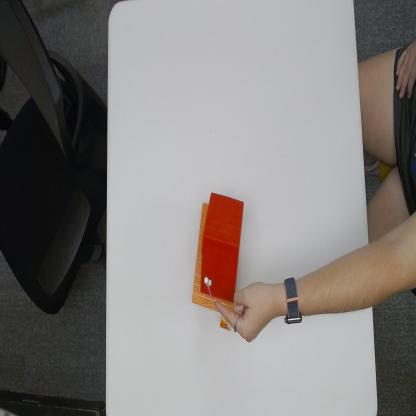Arm: (304, 246, 373, 322)
Hand: (216, 286, 280, 348)
House: (193, 188, 243, 308)
